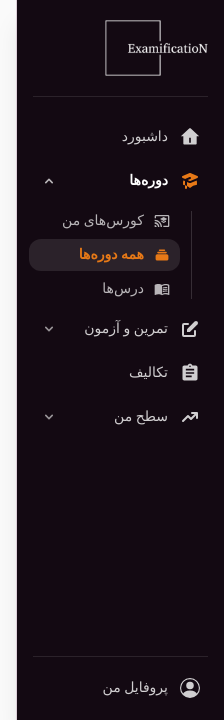
it: StudentNavigation › opens the sidebar group that holds the current page
Click the button "تمرین و آزمون" at {"x": 120, "y": 329}, box [29,309,212,349]
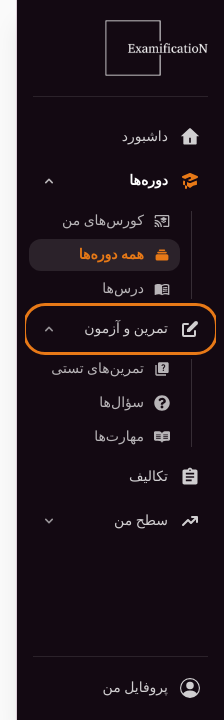
Expected: the button "تمرین و آزمون" is expanded, [29,309,212,349]
